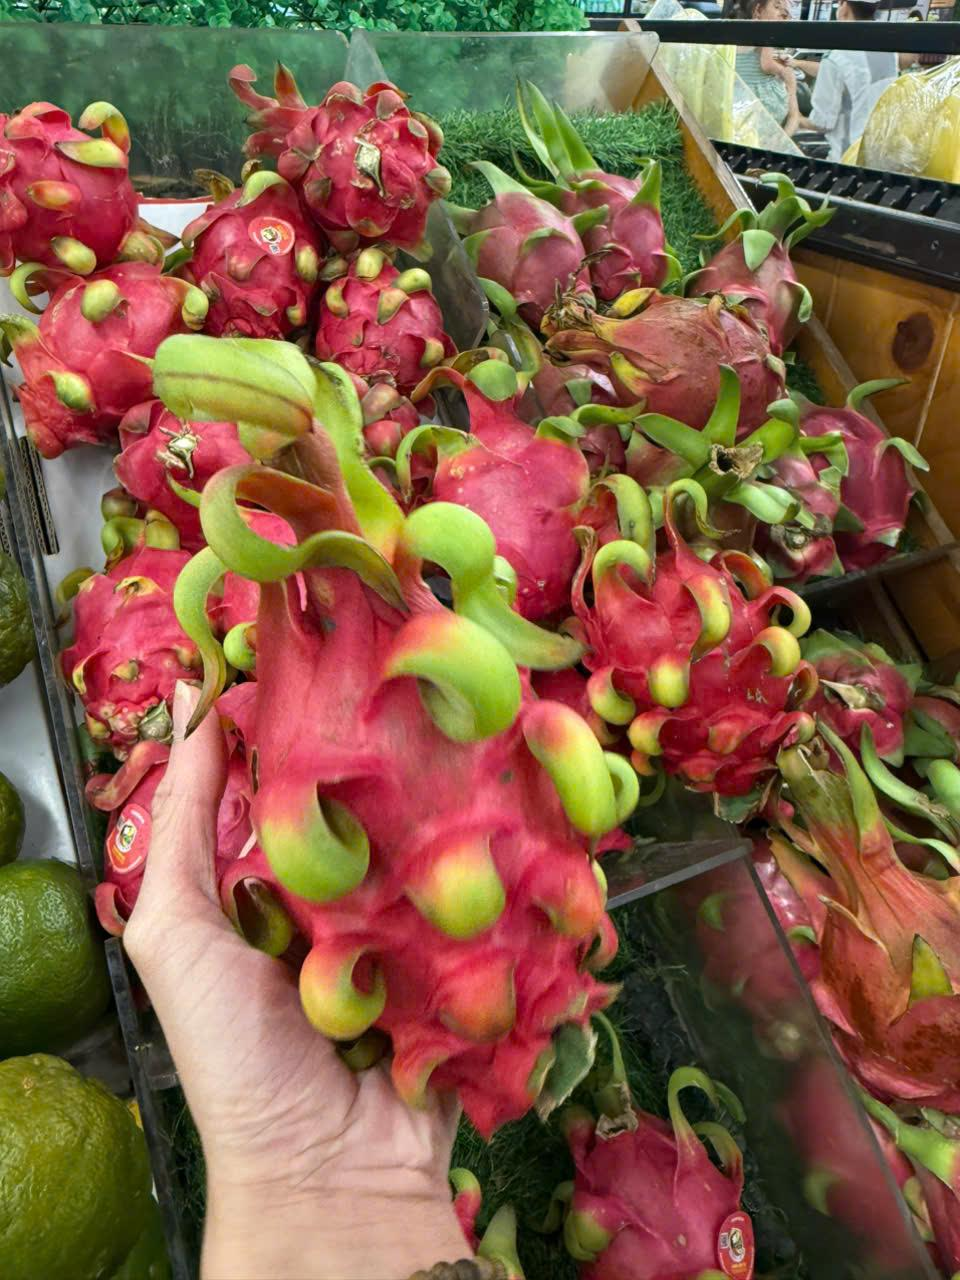dragon fruit: (150, 361, 620, 1144), (560, 486, 812, 804), (390, 358, 598, 604), (560, 1078, 768, 1280), (220, 55, 442, 234), (2, 231, 188, 427), (0, 96, 156, 277), (310, 238, 442, 407), (190, 185, 320, 352)
